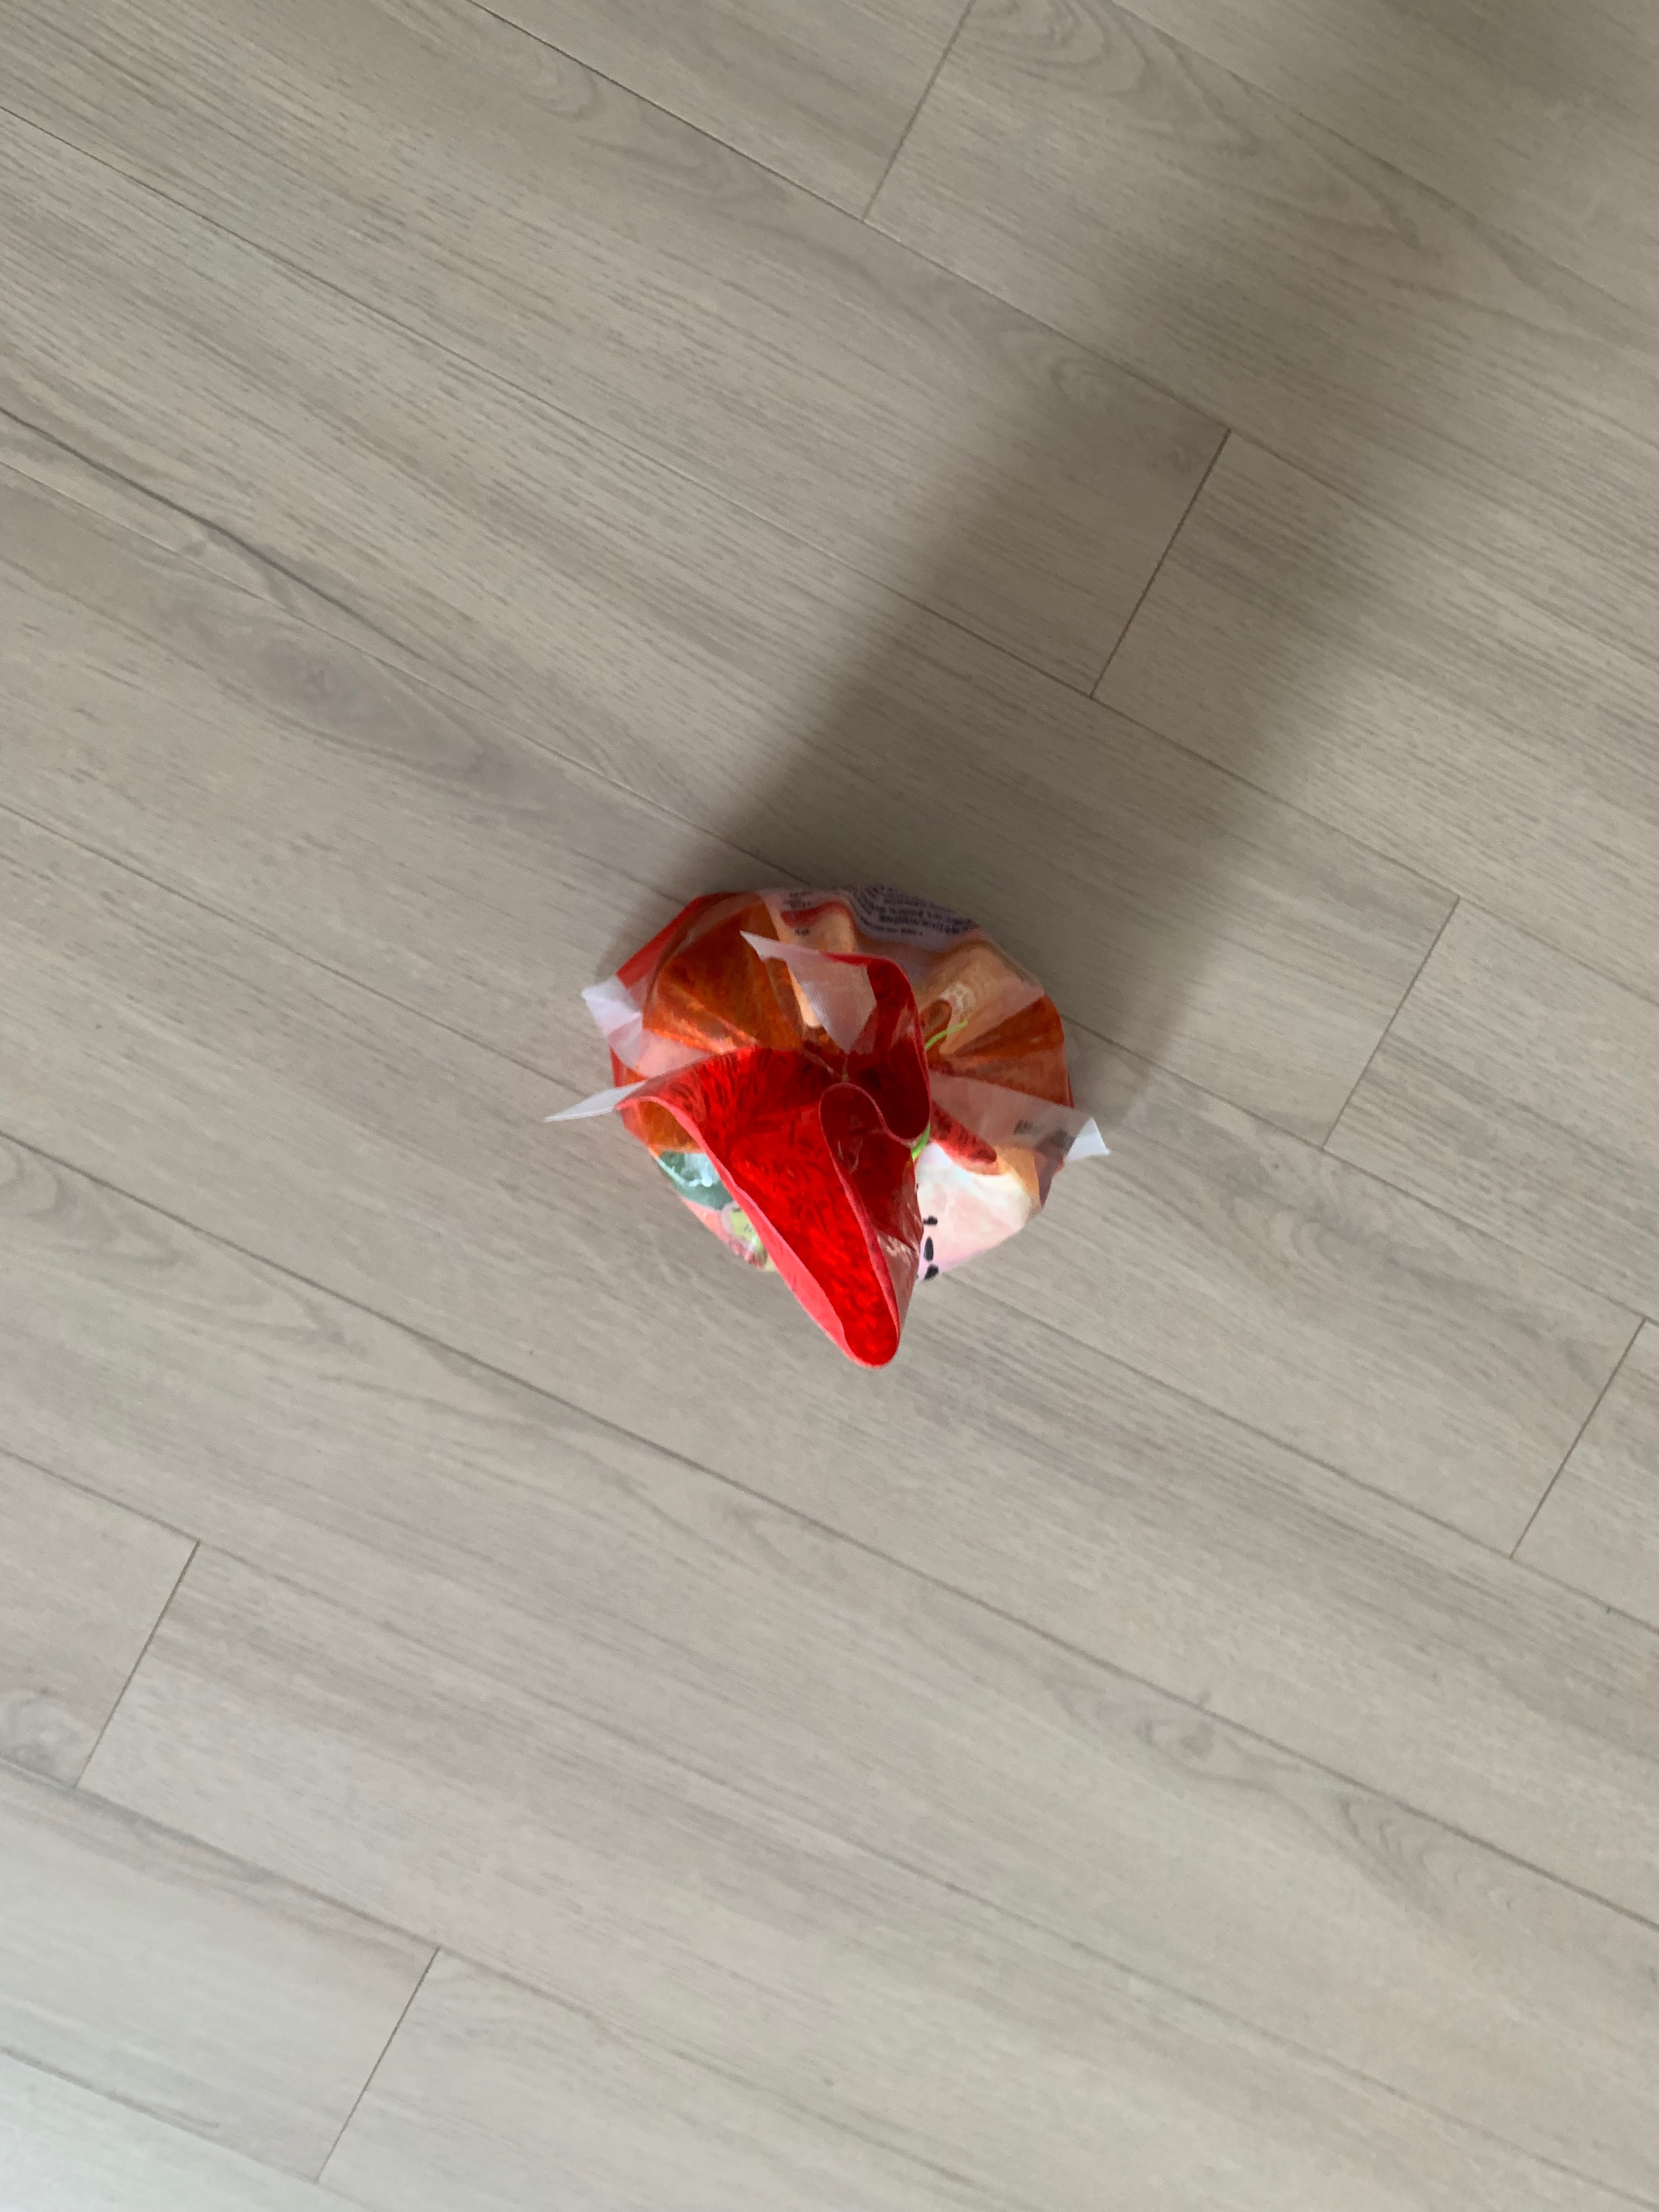kimchi: (599, 881, 1087, 1367)
